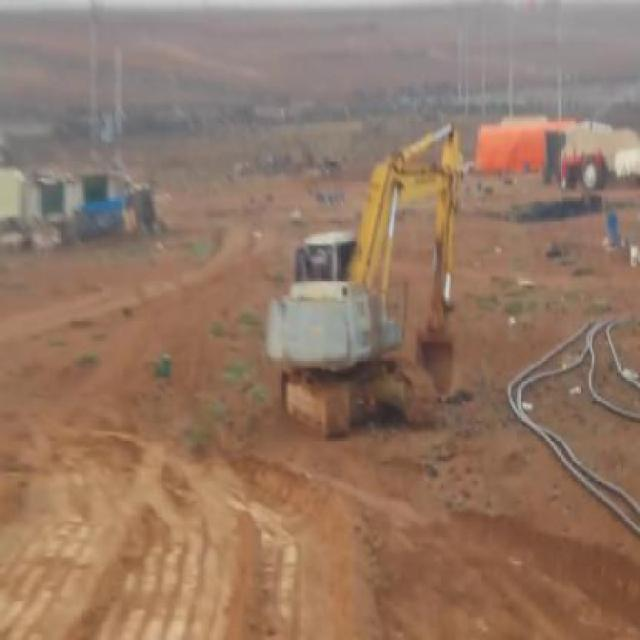excavator: (259, 118, 459, 442)
